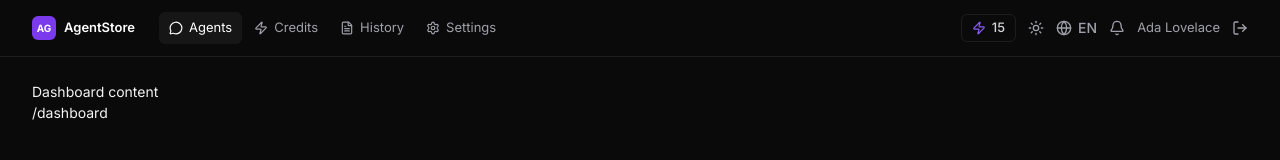
Test: Layout › routes the credits indicator to buy credits when bundles exist
Click the button "15": (988, 28) [961,14,1016,42]
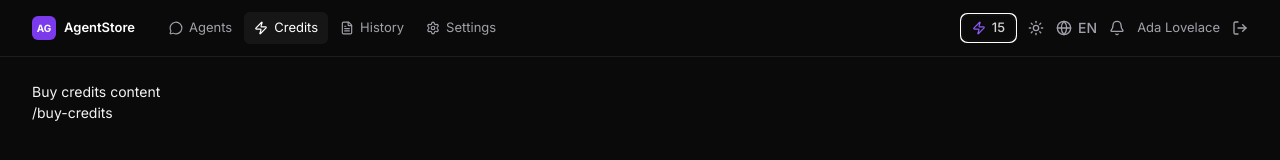
Expected: the text with test id "location-display" reads "/buy-credits", [32,104,113,121]
